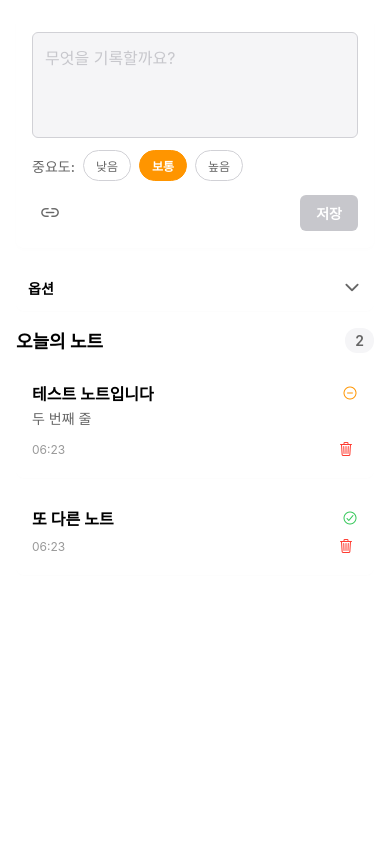
Test: HomeScreen › 옵션 섹션 › 옵션 섹션을 토글할 수 있다
Note: Open options
Step 1. Click the element with test id "options-toggle" → (41,288), box [28, 277, 362, 298]
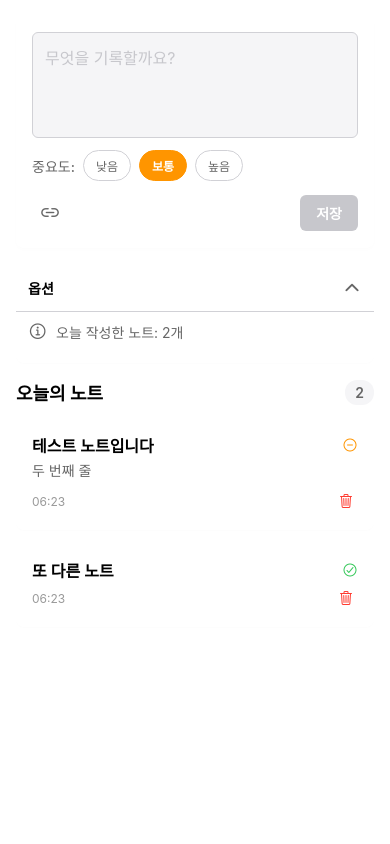
Check: the element with test id "options-content" is shown, box [16, 311, 374, 363]
Note: Close options
Step 2. Click the element with test id "options-toggle" → (41,288), box [28, 277, 362, 298]
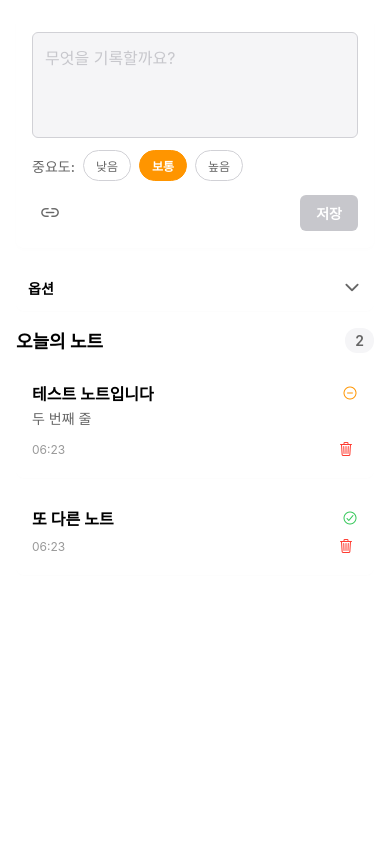
Check: the element with test id "options-content" is gone
